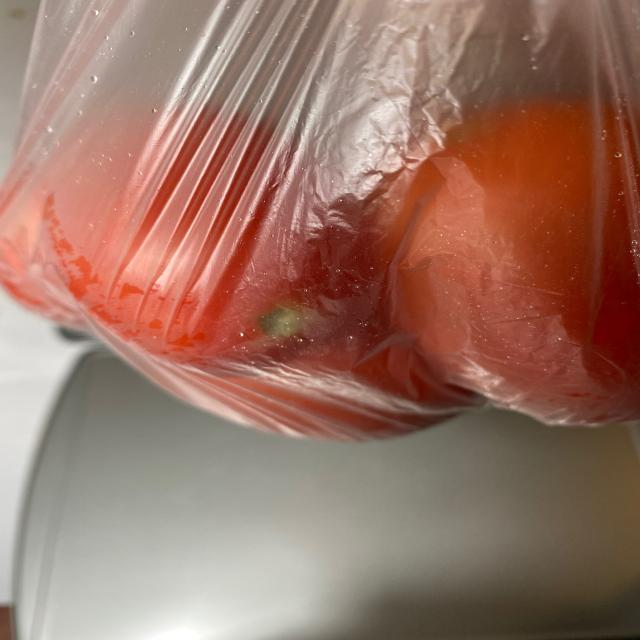tomato: (18, 89, 633, 434)
